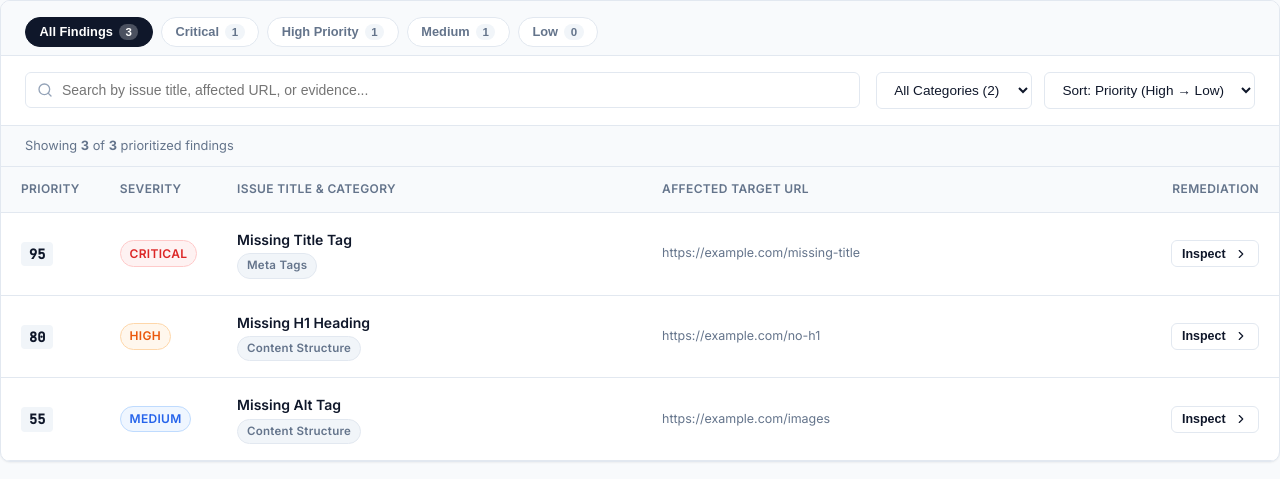
IssueTable component › filters issues by clicking severity pill tab
This screenshot has width=1280, height=479.
What coordinates should you click on to do the following:
click the button "Critical 1"
I would click on:
 (210, 32)
Its box is 161,17 -> 259,47.
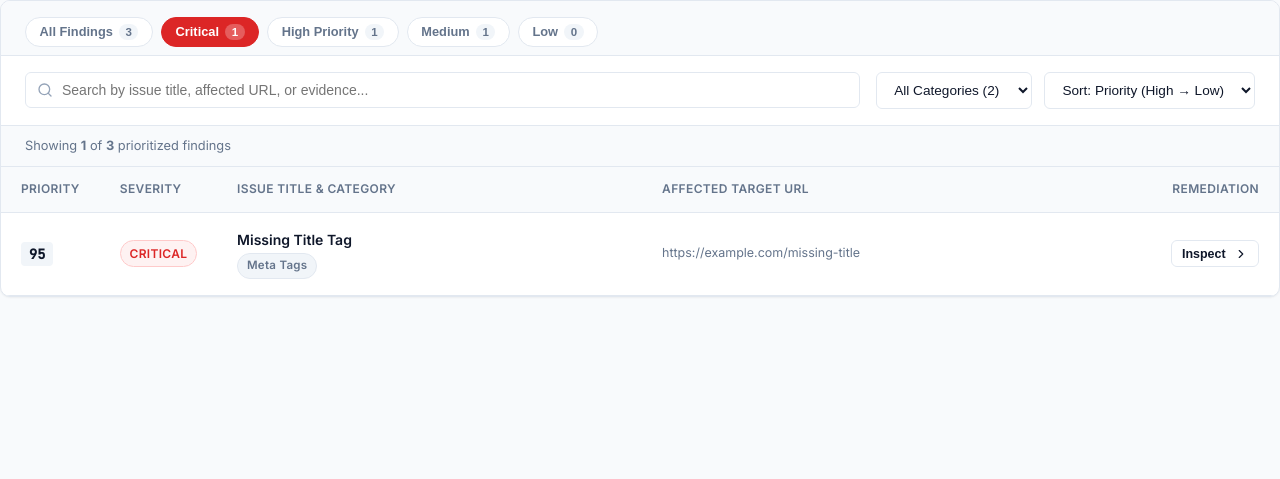
Expected: the text "Missing Title Tag" is shown, 237,231 -> 352,248
Result: the text "Missing H1 Heading" is gone
Result: the text "Missing Alt Tag" is gone
